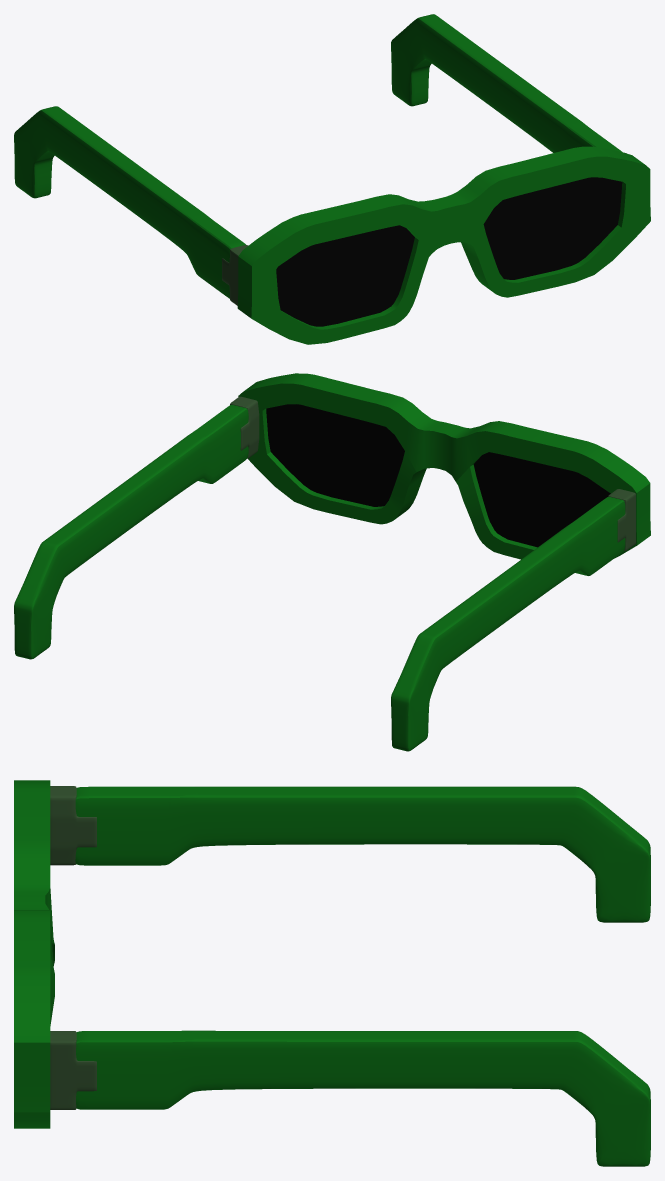
The model's file is Sun_Glasses.glb.
The picture shows the model from 3 angles, top to bottom: view 1: azimuth 30°, elevation 25°; view 2: azimuth 150°, elevation 25°; view 3: azimuth 270°, elevation 25°; orthographic projection. The views are drawn at different scales.
Parts seen in each view (by area): view 1: Sun Glasses; view 2: Sun Glasses; view 3: Sun Glasses.
Boxes of the visible parts, x1,y1,x2,y2 form: Sun Glasses: (14, 14, 650, 344); Sun Glasses: (14, 373, 650, 751); Sun Glasses: (14, 780, 650, 1166).
Bounding box in the file's own units: 0.1275 × 0.0371 × 0.1326.
